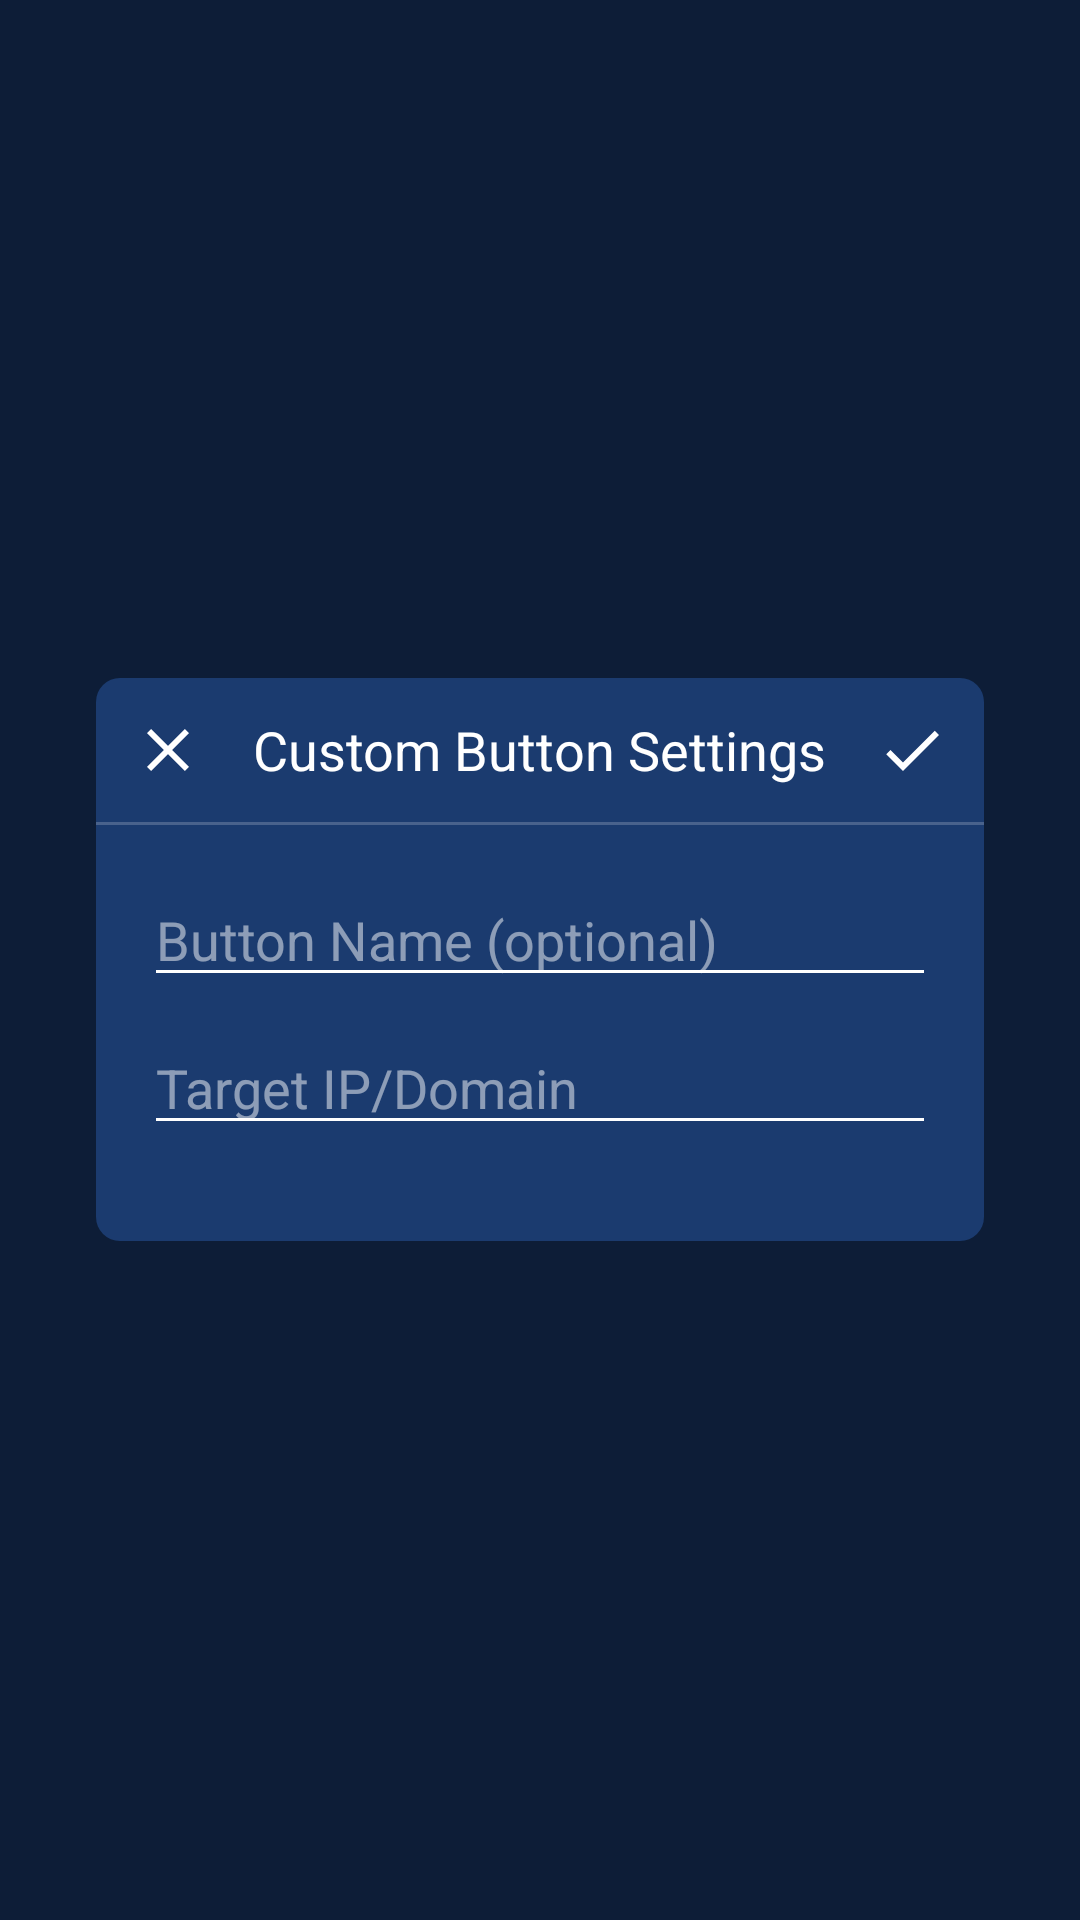

Point at icon controls on the screen. Image size 1080 x 1920, points as (x=x, y=y).
check: (x=912, y=751)
close: (x=168, y=750)
